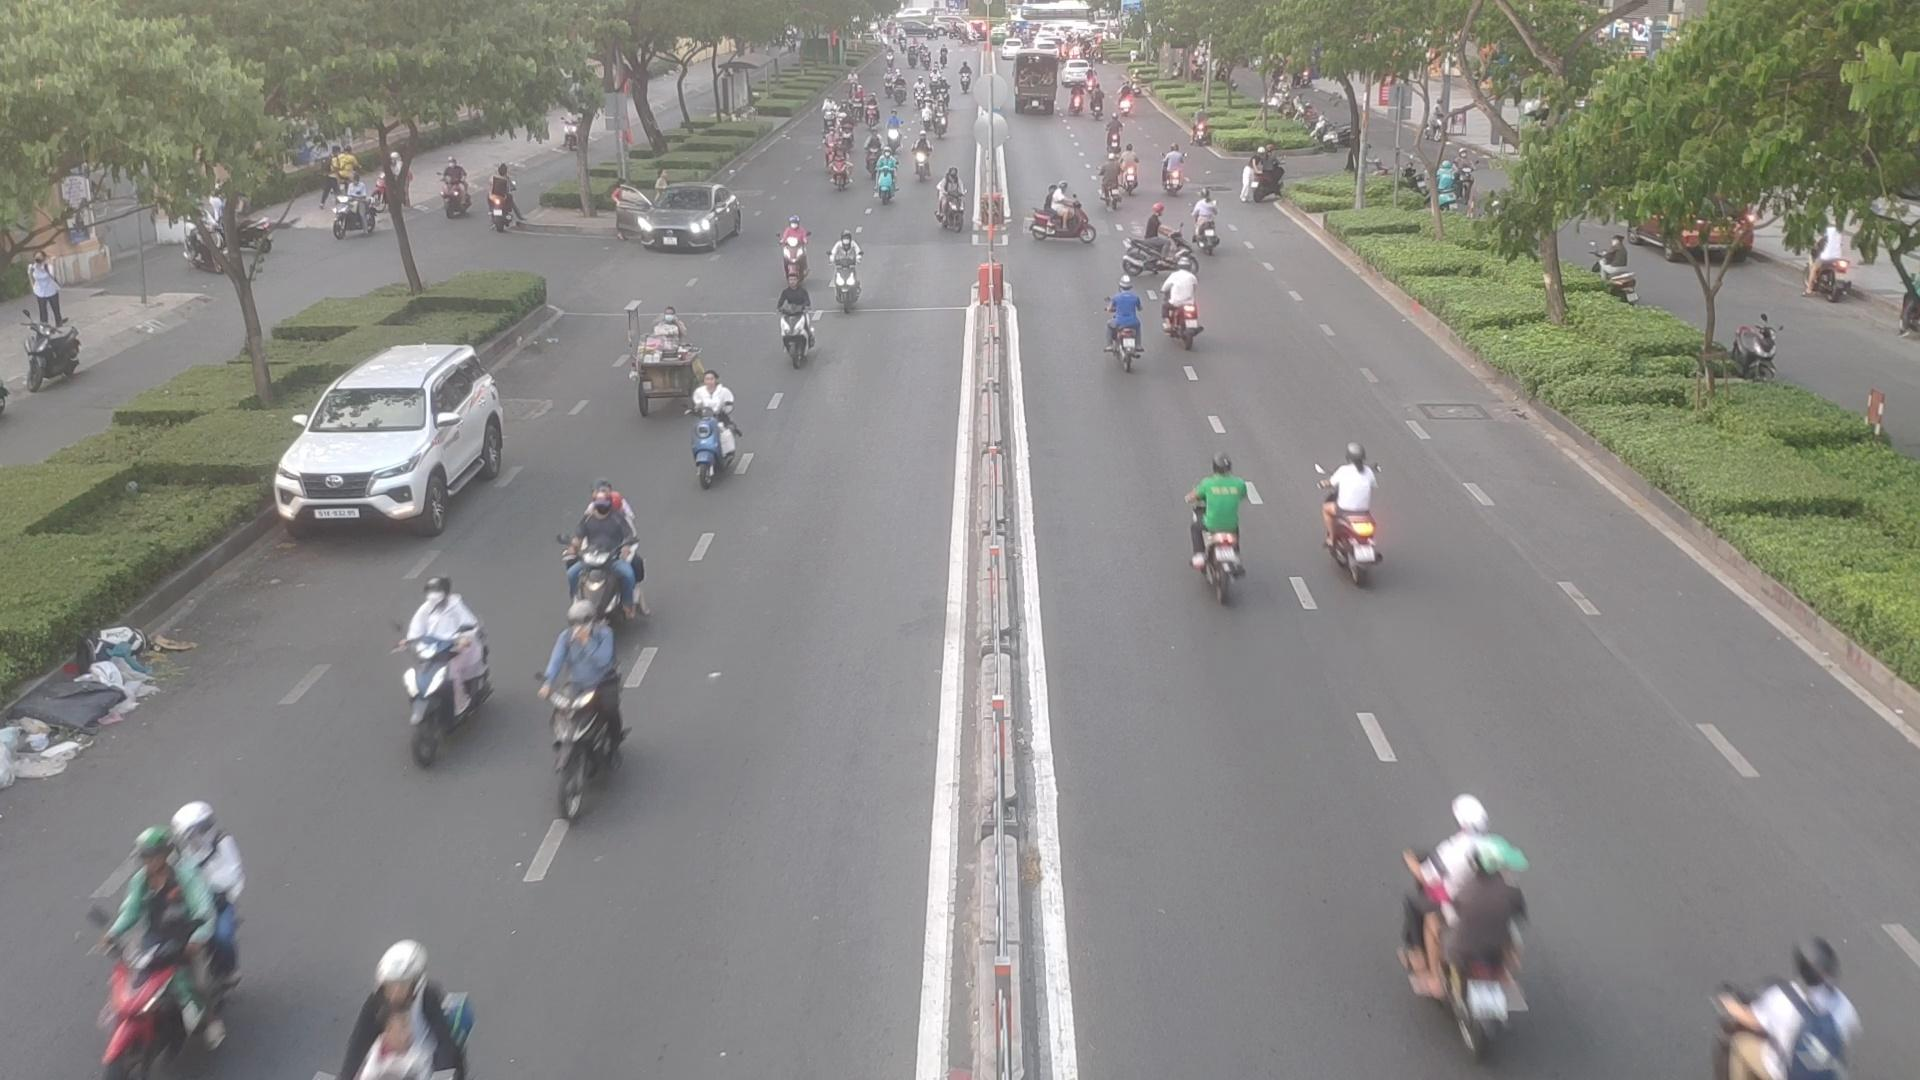car: (269, 343, 512, 534), (616, 187, 749, 258)
motorbike: (76, 794, 233, 1080), (1407, 781, 1520, 1017), (339, 920, 477, 1080), (1721, 936, 1859, 1080), (397, 570, 489, 761), (550, 607, 622, 811), (564, 487, 647, 644), (1182, 459, 1266, 609), (1324, 444, 1379, 571), (774, 257, 823, 363), (1029, 190, 1100, 256), (688, 407, 742, 489), (824, 214, 866, 316), (1160, 260, 1203, 356), (1106, 289, 1147, 364), (1130, 227, 1191, 277), (1091, 152, 1126, 199), (1193, 191, 1220, 255), (1160, 141, 1185, 193)
